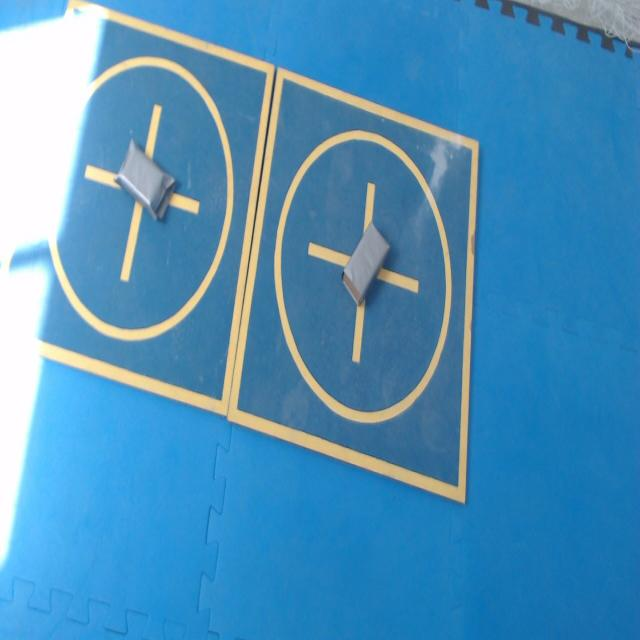lipo: (116, 140, 175, 218), (343, 222, 389, 304)
